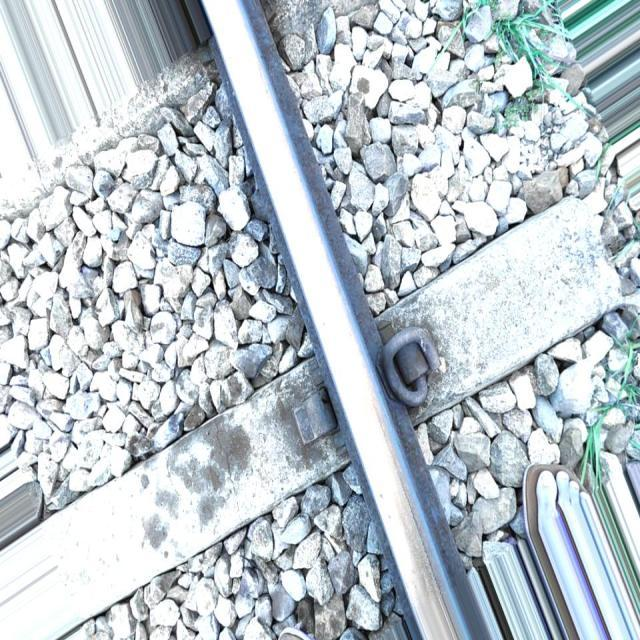Good Fasteners: (372, 315, 453, 408)
Missing Fastener: (271, 375, 347, 456)
